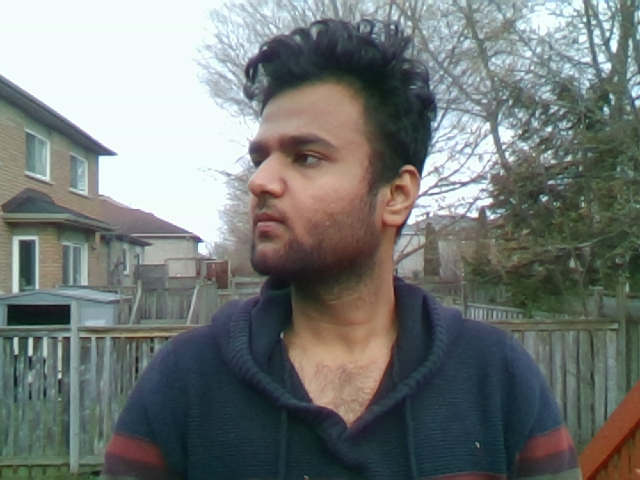Without Mask: (237, 155, 427, 281)
